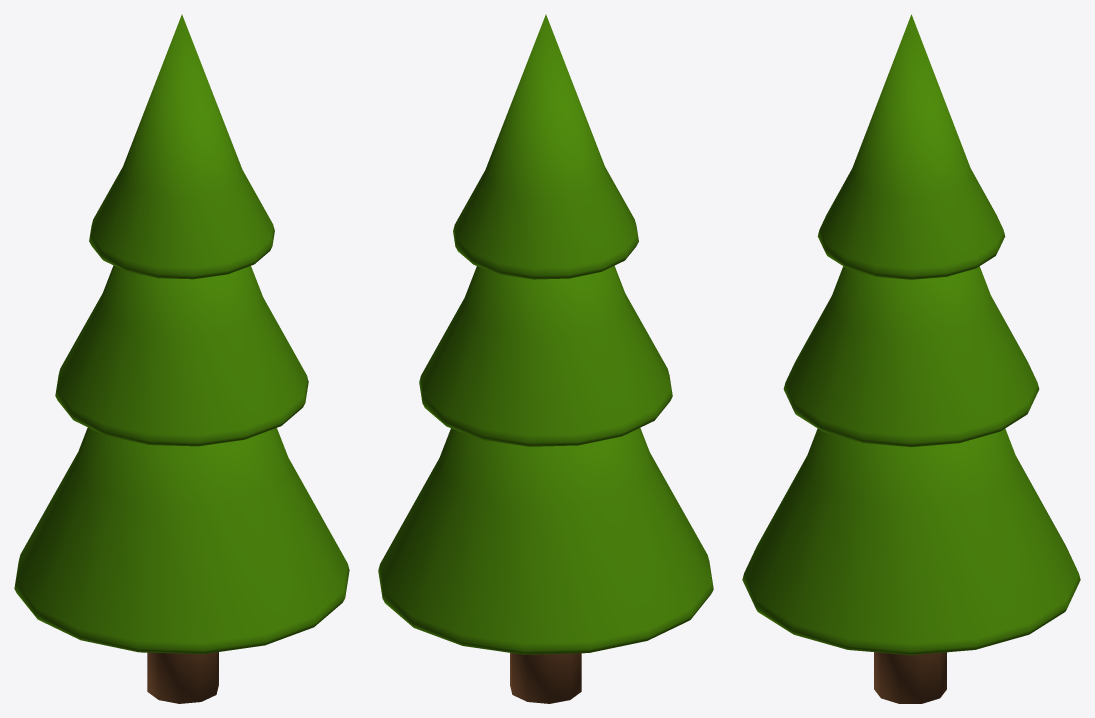
The model's file is treeS.fbx.
The picture shows the model from 3 angles, left to right: view 1: azimuth 30°, elevation 25°; view 2: azimuth 150°, elevation 25°; view 3: azimuth 270°, elevation 25°; orthographic projection.
Parts seen in each view (by area): view 1: Cylinder.009; view 2: Cylinder.009; view 3: Cylinder.009.
Boxes of the visible parts, left/top/right/bottom form: Cylinder.009: left=14, top=14, right=349, bottom=703; Cylinder.009: left=378, top=14, right=713, bottom=703; Cylinder.009: left=742, top=14, right=1080, bottom=703.
Size of the model in its own units: 69.47 by 153 by 69.47.
